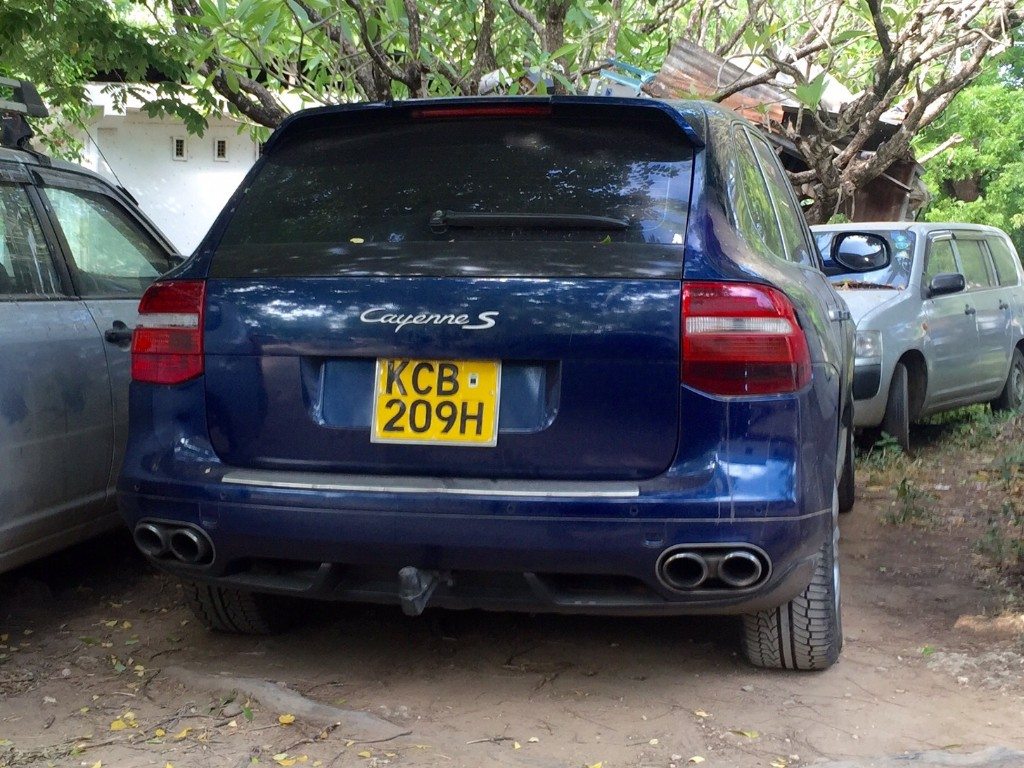licencePlate: (373, 357, 506, 449)
